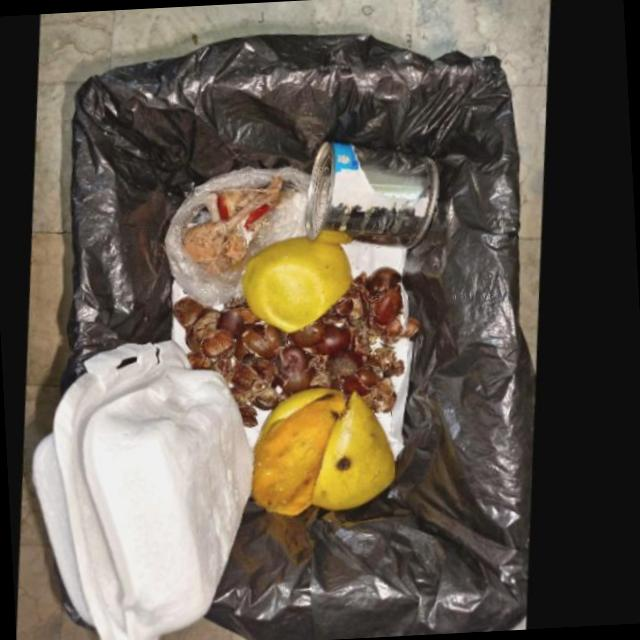nhom: (309, 138, 443, 245)
thuc_an_thua: (186, 173, 286, 272)
tui_ni_long: (169, 164, 313, 304)
vo_trai_cay: (178, 264, 424, 426), (259, 384, 353, 513), (247, 233, 358, 330), (320, 387, 404, 507)
xop: (39, 340, 261, 640)
